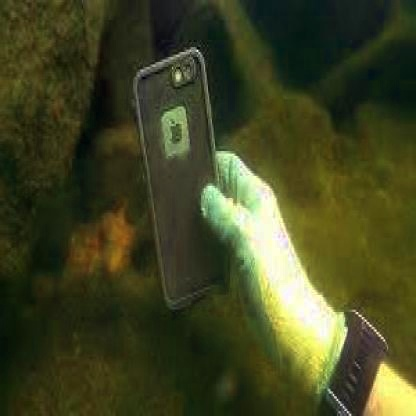cellphone: (132, 50, 226, 310)
